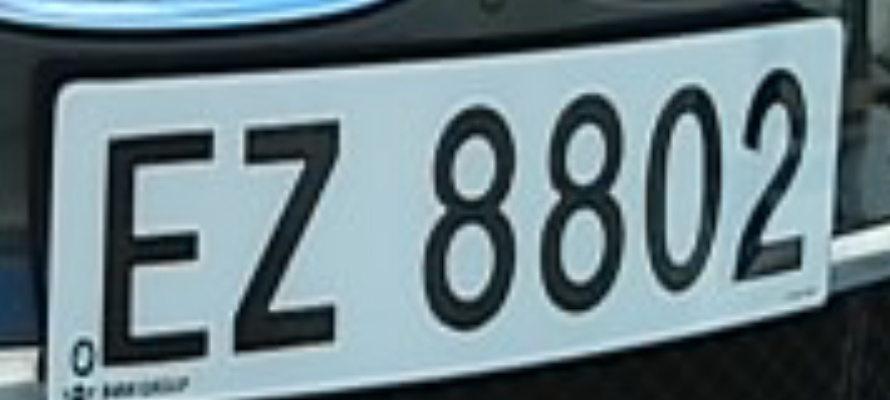0: (631, 72, 732, 306)
2: (724, 55, 813, 293)
8: (522, 81, 639, 322), (416, 97, 531, 337)
E: (84, 113, 226, 373)
Z: (217, 108, 360, 366)
